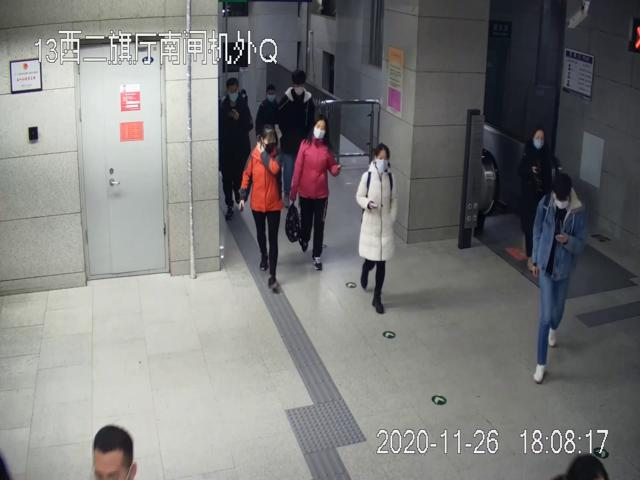person: (532, 172, 585, 381), (238, 121, 283, 292), (292, 116, 340, 273), (356, 143, 398, 312)
